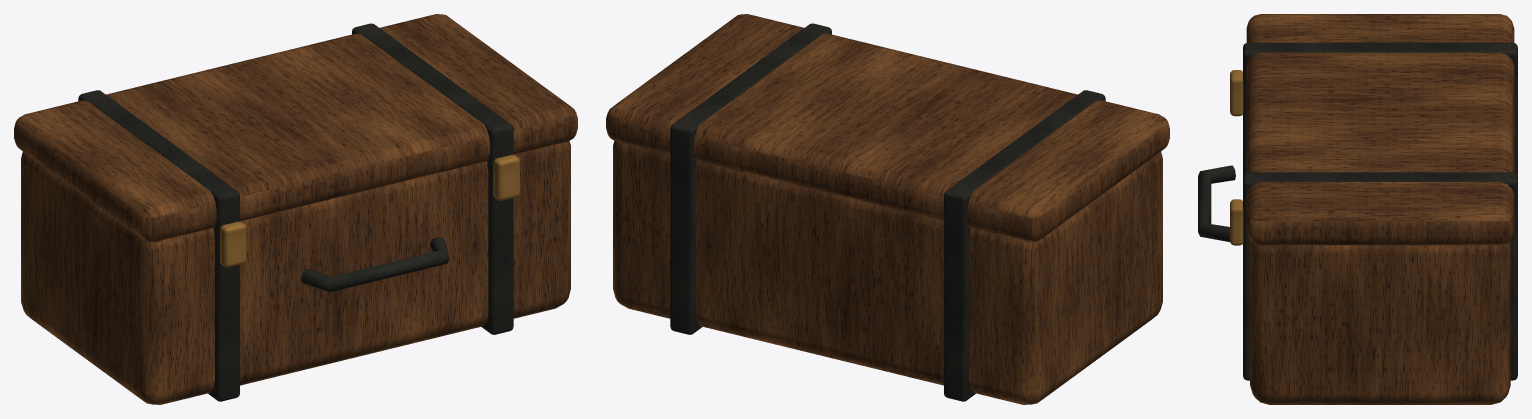
The model's file is JewelryBox.fbx.
The picture shows the model from 3 angles, left to right: view 1: azimuth 30°, elevation 25°; view 2: azimuth 150°, elevation 25°; view 3: azimuth 270°, elevation 25°; orthographic projection. The views are drawn at different scales.
Visible parts, largest first — view 1: JewelryBox_SmokedOak, JewelryBox_Iron, JewelryBox_Brass; view 2: JewelryBox_SmokedOak, JewelryBox_Iron; view 3: JewelryBox_SmokedOak, JewelryBox_Iron, JewelryBox_Brass.
Part boxes in pixels (left/top/right/bottom): JewelryBox_SmokedOak: left=14, top=14, right=577, bottom=404; JewelryBox_Iron: left=78, top=23, right=513, bottom=401; JewelryBox_Brass: left=220, top=154, right=519, bottom=267; JewelryBox_SmokedOak: left=606, top=14, right=1169, bottom=404; JewelryBox_Iron: left=670, top=23, right=1105, bottom=401; JewelryBox_SmokedOak: left=1246, top=14, right=1514, bottom=404; JewelryBox_Iron: left=1198, top=42, right=1517, bottom=380; JewelryBox_Brass: left=1230, top=70, right=1243, bottom=245.
Bounding box in the file's own units: 86.2 × 39 × 56.41.
